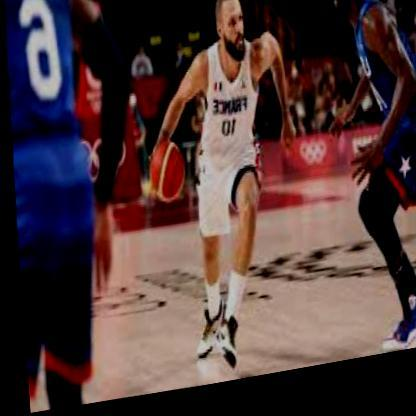basketball: (143, 142, 184, 211)
